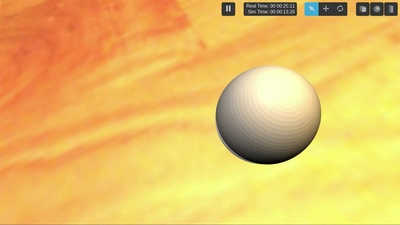mira_robot: (215, 65, 321, 164)
